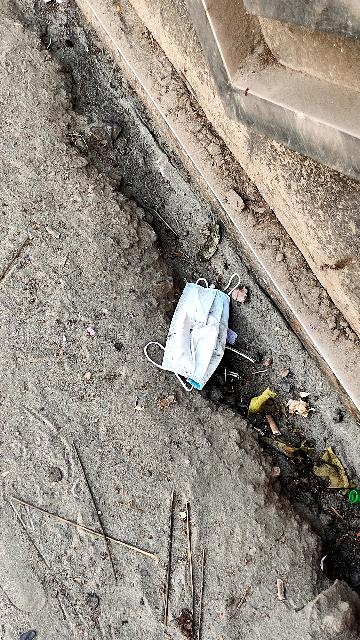mask: (144, 269, 235, 396)
